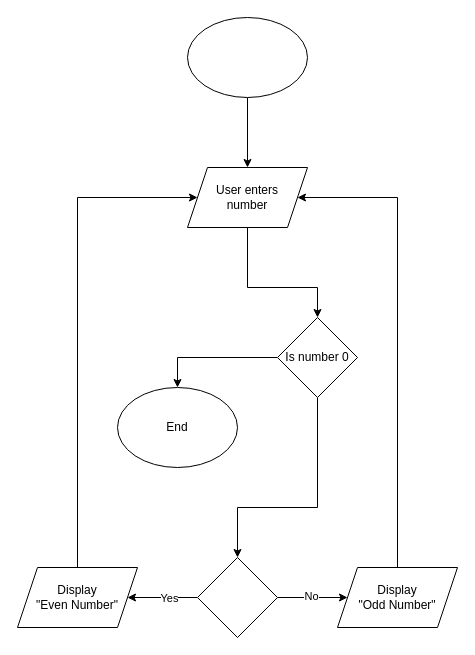
Some shapes in this 475 by 655 pixel diagram are drawn without their labels. Here are the shapes that lost their labels. From the top down, the centre of each, then its label:
(247,57): Start
(237,597): If Number %2==0
